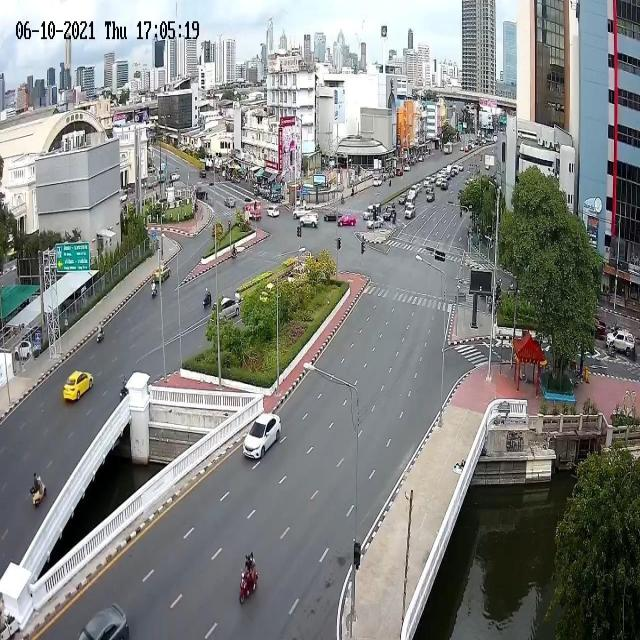Bus: (157, 163, 167, 182)
Car: (77, 603, 130, 639), (242, 413, 282, 459), (62, 370, 92, 402), (210, 296, 240, 322), (15, 341, 38, 361), (299, 212, 320, 228), (154, 264, 170, 283), (337, 212, 357, 226), (292, 205, 310, 220), (365, 216, 384, 230), (362, 206, 377, 221), (382, 207, 397, 222), (324, 211, 343, 222), (404, 204, 416, 220), (267, 205, 280, 218), (223, 196, 236, 208), (406, 189, 416, 203), (436, 178, 446, 190), (398, 193, 408, 205), (426, 188, 434, 202), (197, 186, 206, 198), (373, 176, 383, 186), (170, 172, 180, 182), (451, 165, 460, 175), (396, 168, 404, 176), (386, 202, 395, 209), (199, 170, 206, 178), (403, 165, 410, 172)
Cycle: (239, 564, 259, 604), (31, 476, 47, 509), (202, 292, 212, 308), (97, 328, 105, 343), (151, 284, 158, 298), (120, 388, 128, 400), (231, 246, 238, 259), (388, 179, 392, 187)
Truck: (605, 328, 635, 358), (242, 202, 262, 220), (443, 142, 453, 154)
